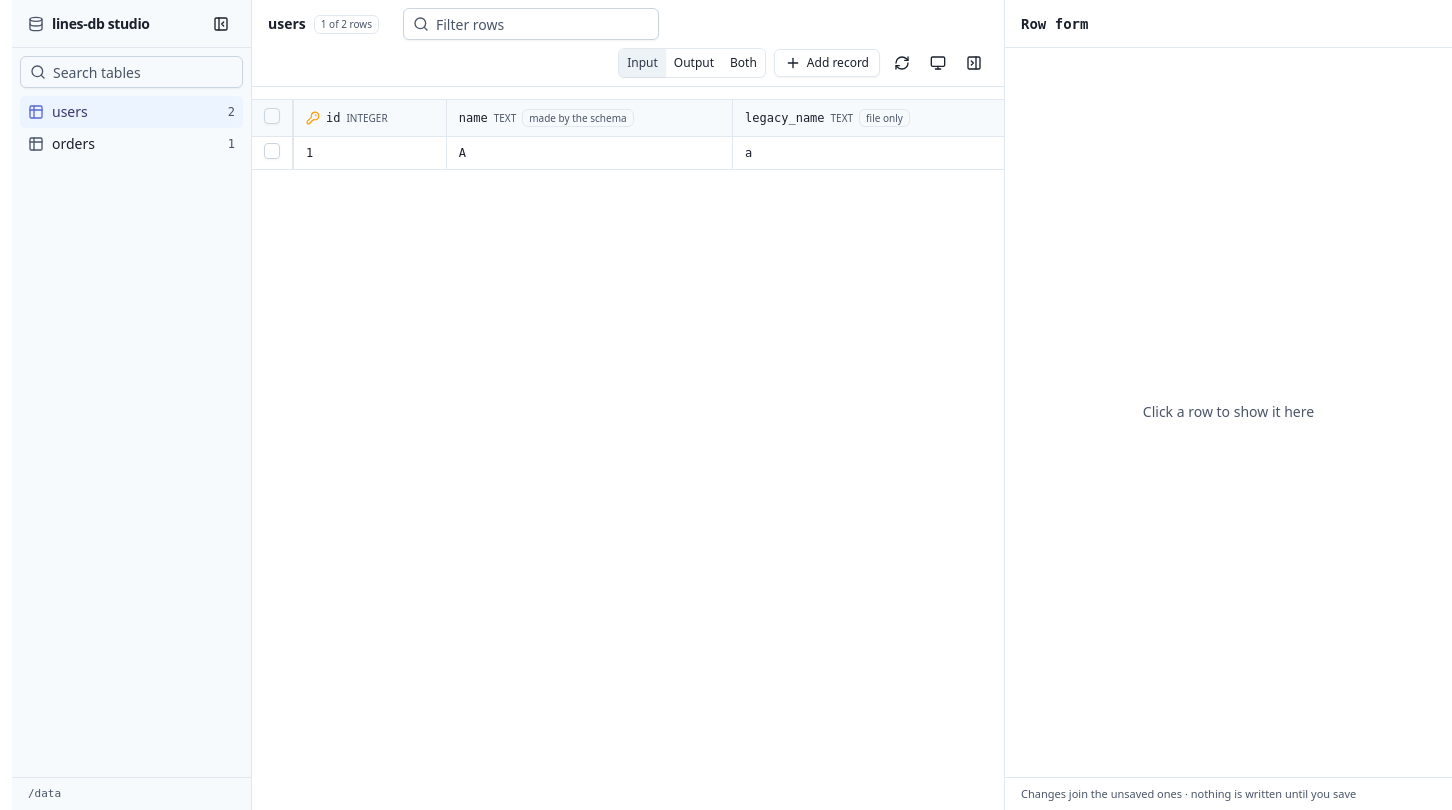
App › a table whose schema transforms a value › a schema that renames a field › shows only the fields the schema makes in the Output view
Click the button "Output" at (694,63), box [666,49,722,77]
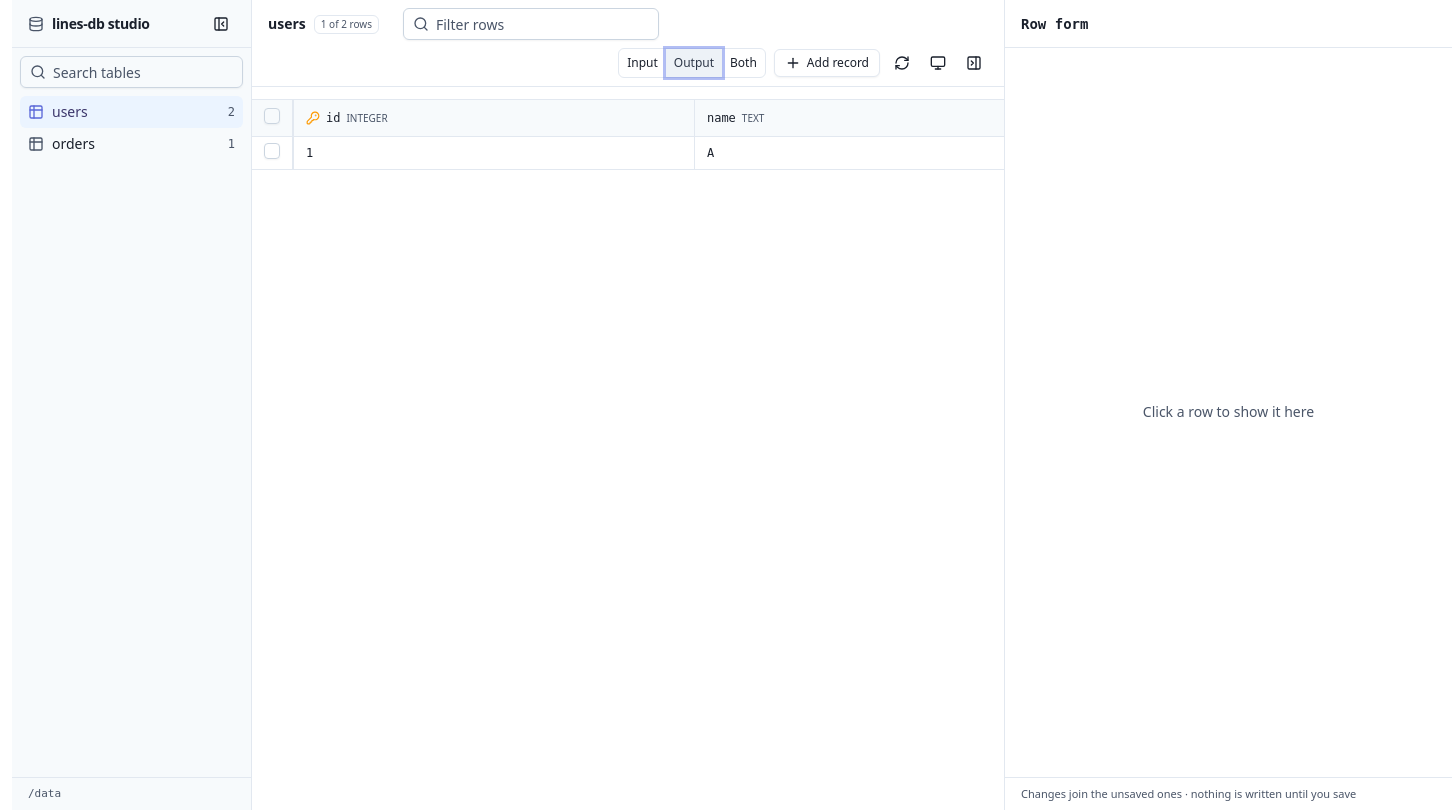
Expected: the text "A" is shown, [707,146,714,160]
Now the text "legacy_name" is gone
